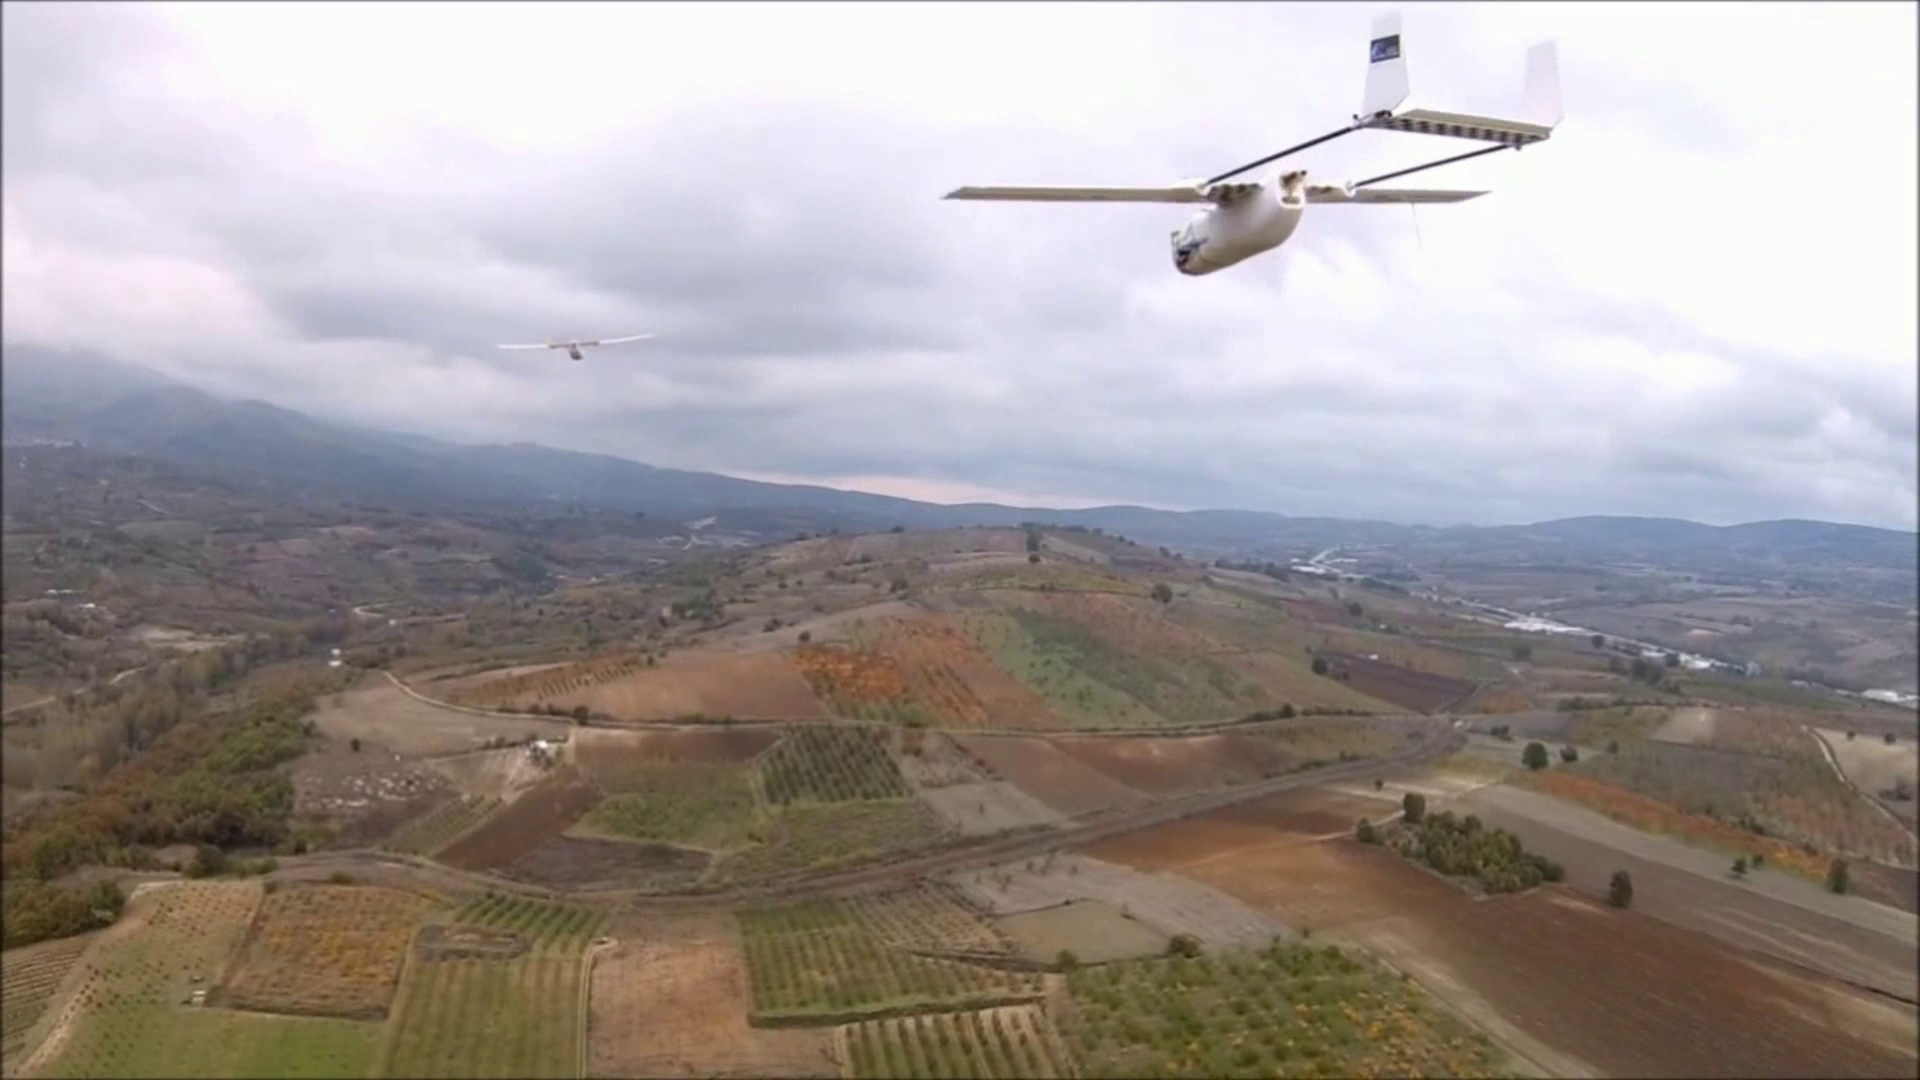airplane: (942, 26, 1563, 278)
